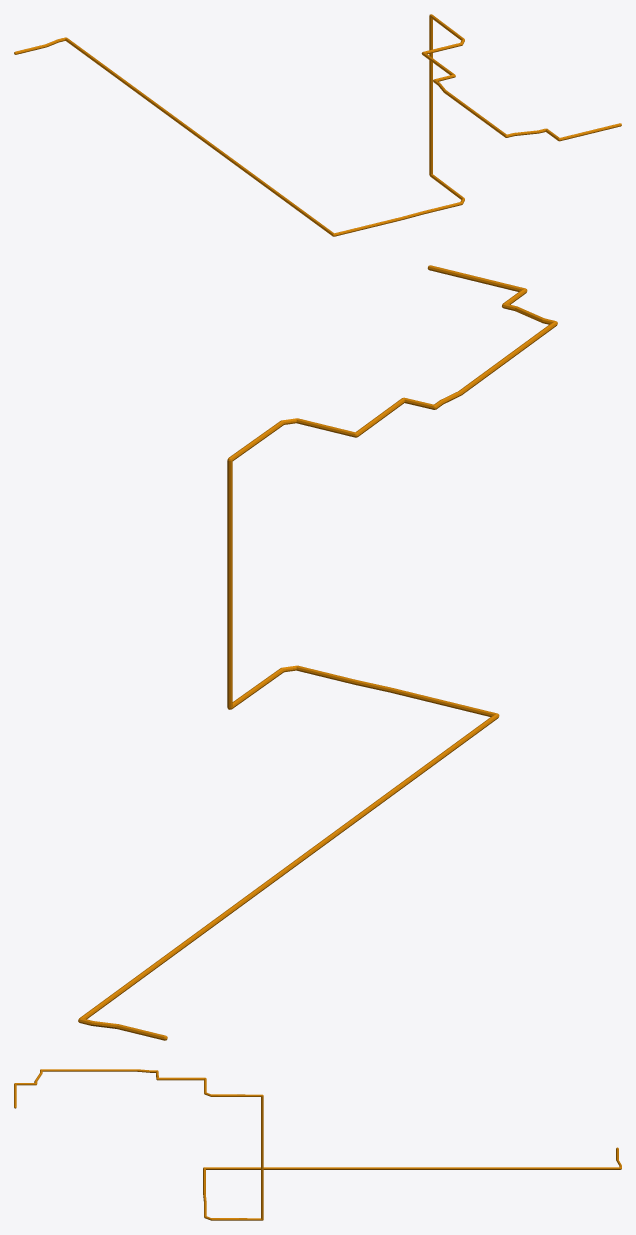
3 renders of one model, top to bottom at view 1: azimuth 30°, elevation 25°; view 2: azimuth 150°, elevation 25°; view 3: azimuth 270°, elevation 25°, orthographic. The views are drawn at different scales.
Size of the model in its own units: 1446 by 1020 by 4456.
